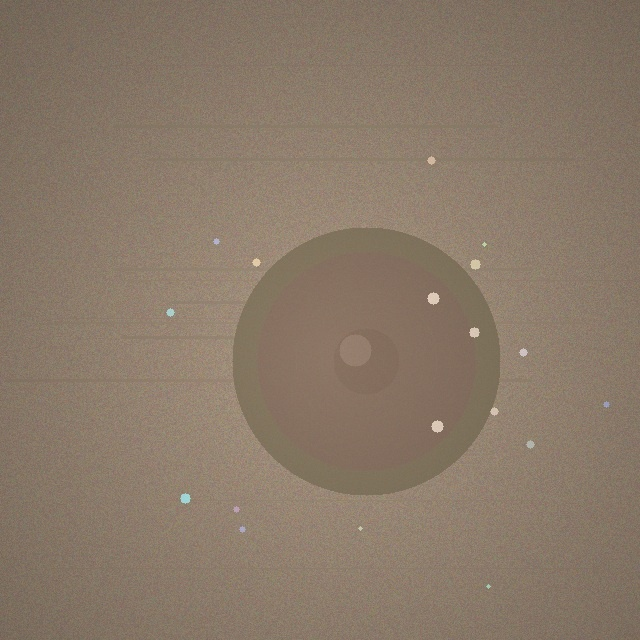overburn: (232, 227, 500, 495)
